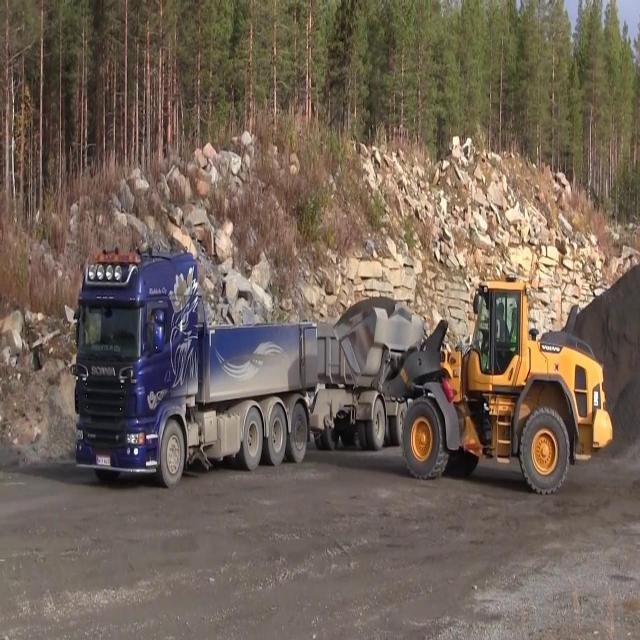Dump Truck: (69, 234, 403, 483)
Loader: (332, 276, 611, 502)
